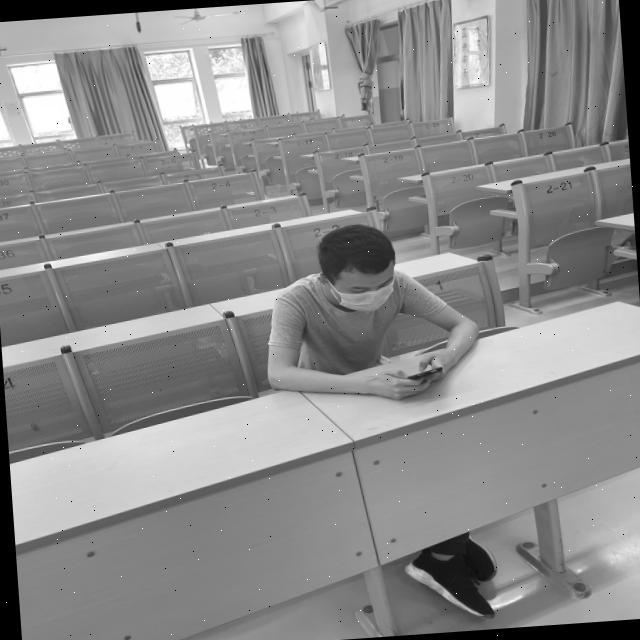phone: (258, 219, 481, 406)
